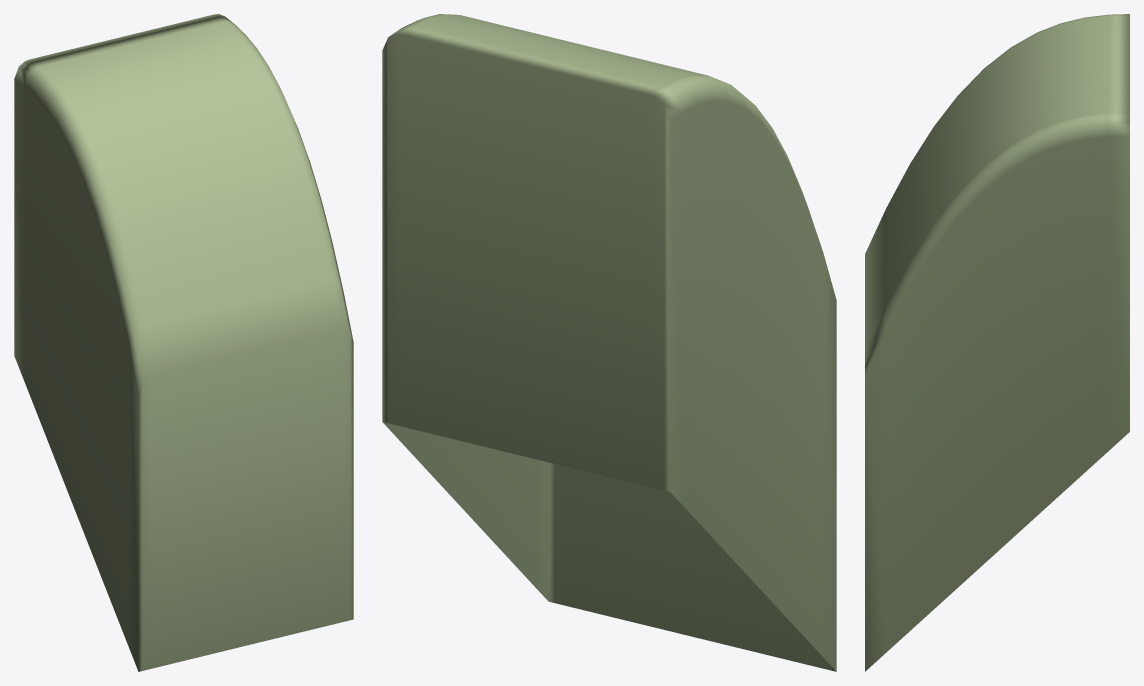
The model's file is ground-ramp-lr-30.glb.
3 renders of one model, left to right at view 1: azimuth 30°, elevation 25°; view 2: azimuth 150°, elevation 25°; view 3: azimuth 270°, elevation 25°, orthographic. The views are drawn at different scales.
Visible parts, largest first — view 1: ground-ramp-lr-30; view 2: ground-ramp-lr-30; view 3: ground-ramp-lr-30.
Part boxes in pixels (left/top/right/bottom): ground-ramp-lr-30: left=14, top=14, right=353, bottom=671; ground-ramp-lr-30: left=382, top=14, right=836, bottom=671; ground-ramp-lr-30: left=865, top=14, right=1129, bottom=671.
Size of the model in its own units: 1 by 2.3 by 1.
